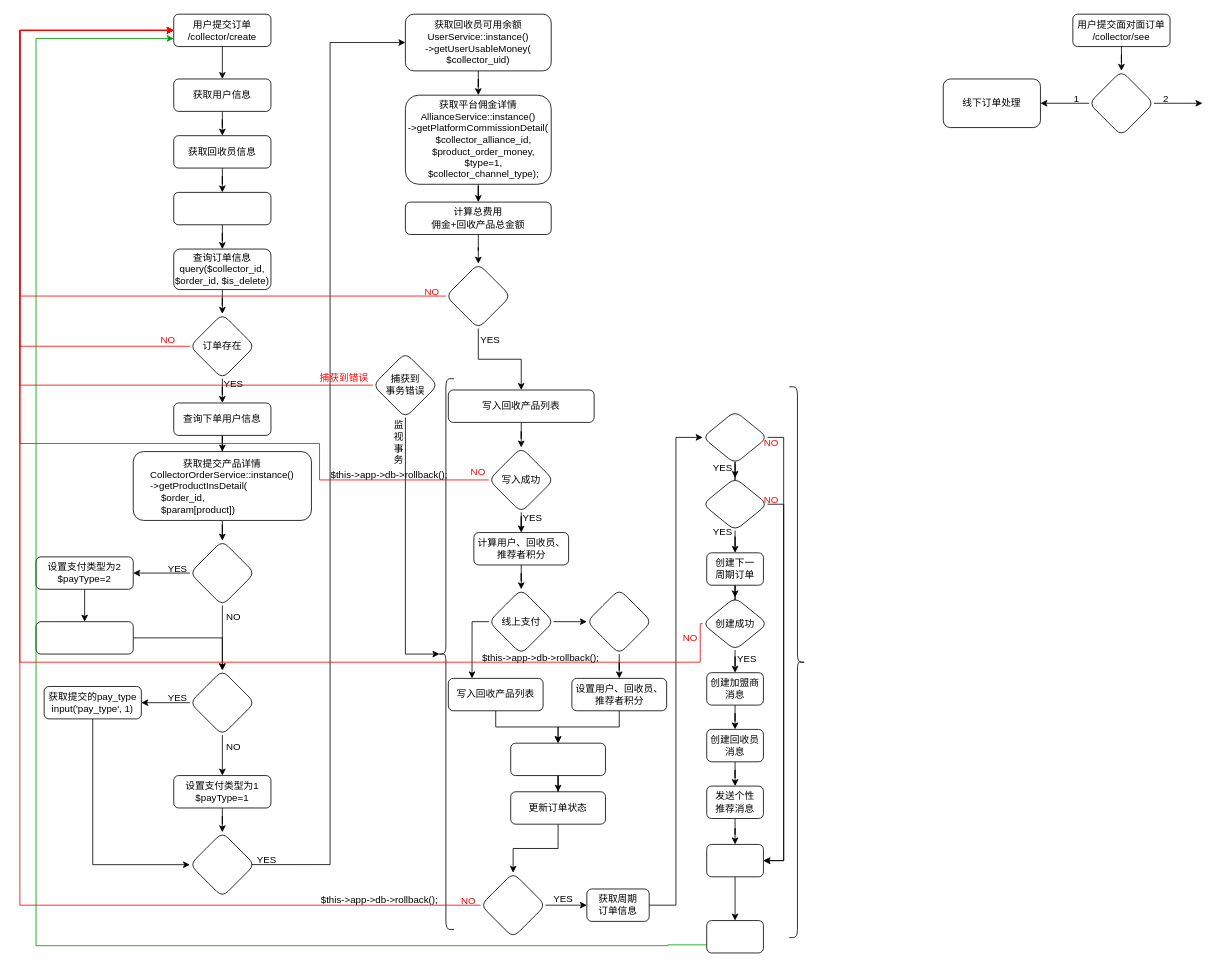
The diagram is 1223 pixels wide and 967 high, and some of its shapes have lost their labels. The centre of each missing label's shape, as x and y in pixels:
"发送回收 完成消息" belongs at [734,936].
"周期状态为1" belongs at [734,504].
"回收员 余额足够" belongs at [478,295].
"处理任务奖励" belongs at [557,759].
"提交事务" belongs at [734,860].
"是否 线上支付" belongs at [222,864].
"是否公益 订单" belongs at [222,572].
"更新成功" belongs at [513,905].
"系统开启 线下支付" belongs at [222,702].
"线上订单 type = 2" belongs at [734,437].
"线下支付且 允许积分" belongs at [619,621].
"获取提交数据" belongs at [222,208].
"订单类型 type=?" belongs at [1121,103].
"设置所有产品 回收金额为0" belongs at [84,637].
